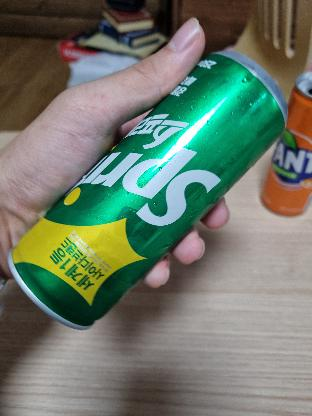Can: (27, 72, 279, 322)
